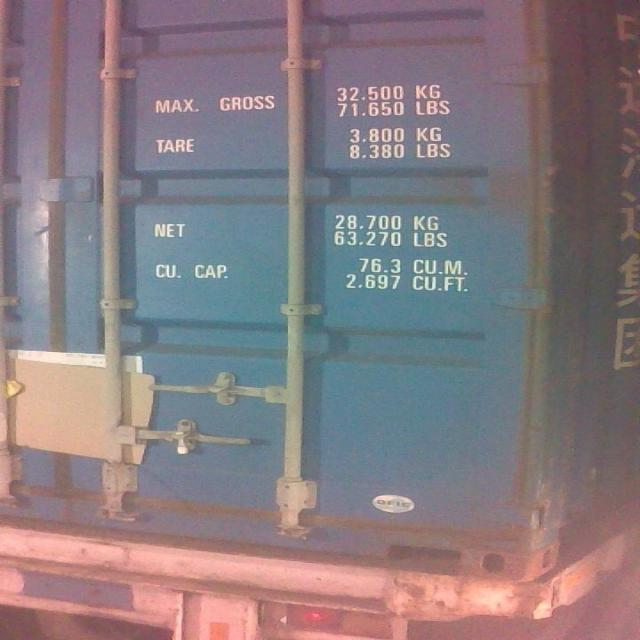seal: (172, 427, 192, 459)
